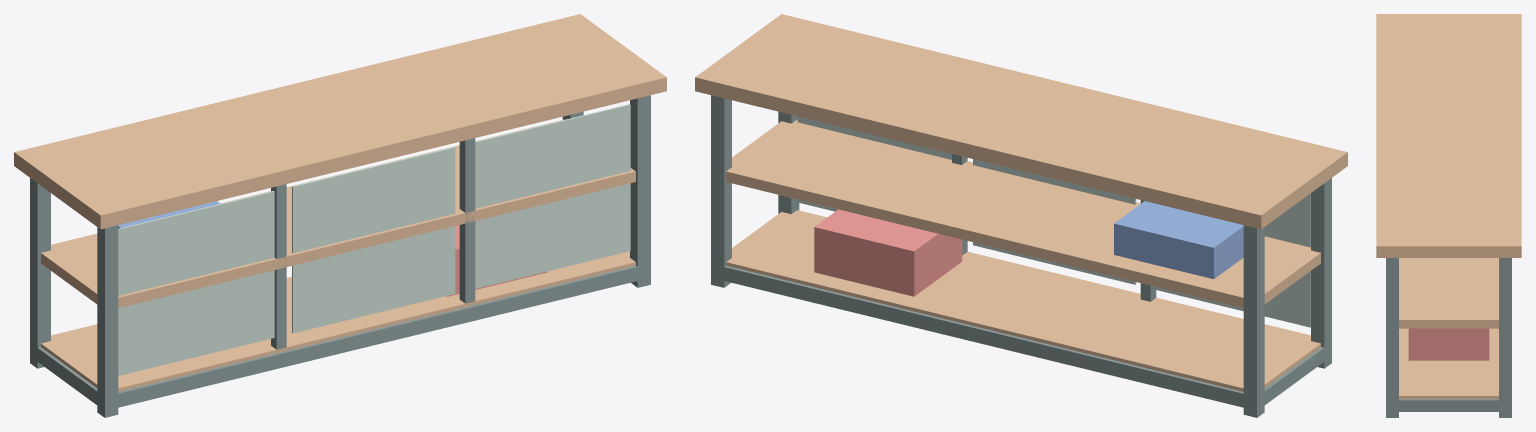
The model's file is mediaConsoleIndustrial.glb.
The picture shows the model from 3 angles, left to right: view 1: azimuth 30°, elevation 25°; view 2: azimuth 150°, elevation 25°; view 3: azimuth 270°, elevation 25°; orthographic projection. The views are drawn at different scales.
Parts seen in each view (by area): view 1: mediaConsoleIndustrial; view 2: mediaConsoleIndustrial; view 3: mediaConsoleIndustrial.
Boxes of the visible parts, box(x1,y1,x2,y2) form: mediaConsoleIndustrial: box(14, 14, 666, 417); mediaConsoleIndustrial: box(695, 14, 1347, 417); mediaConsoleIndustrial: box(1376, 14, 1521, 417).
Bounding box in the file's own units: 0.85 × 0.3 × 0.225.
